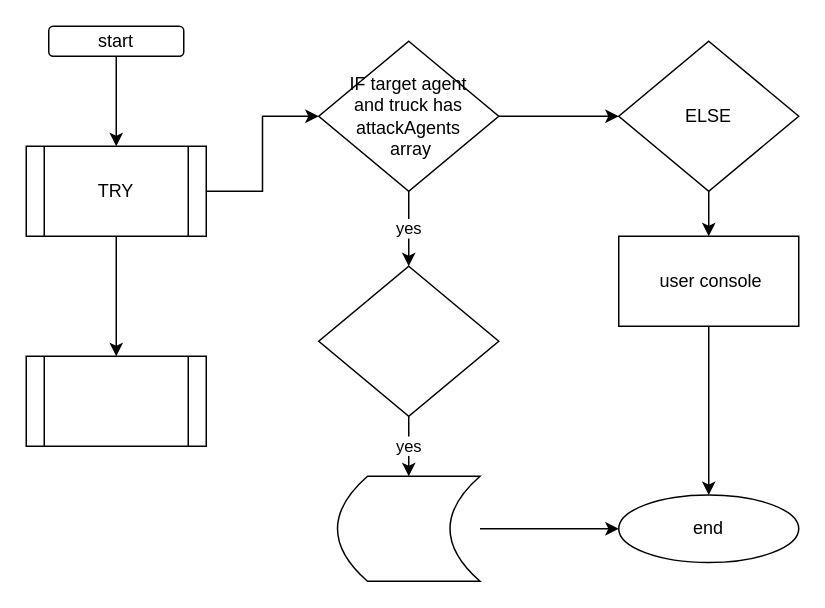
This 825x608 diagram has some shape labels left out. The shapes that lost their labels are listed below. From the top down, each one's centre as x and y in pixels, then its label:
At (408,340): "IF target agent doesn't have the truck id into attacking list".
At (115,400): "CATCH".
At (408,528): "store the id into target agent".
